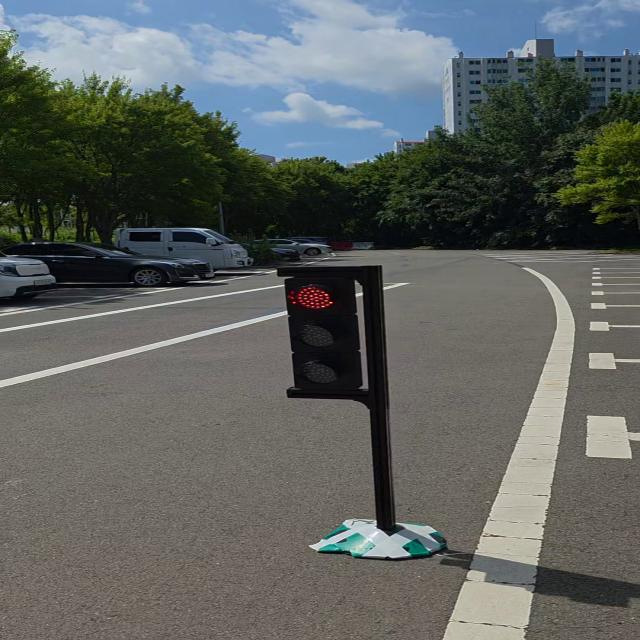red: (266, 269, 382, 400)
